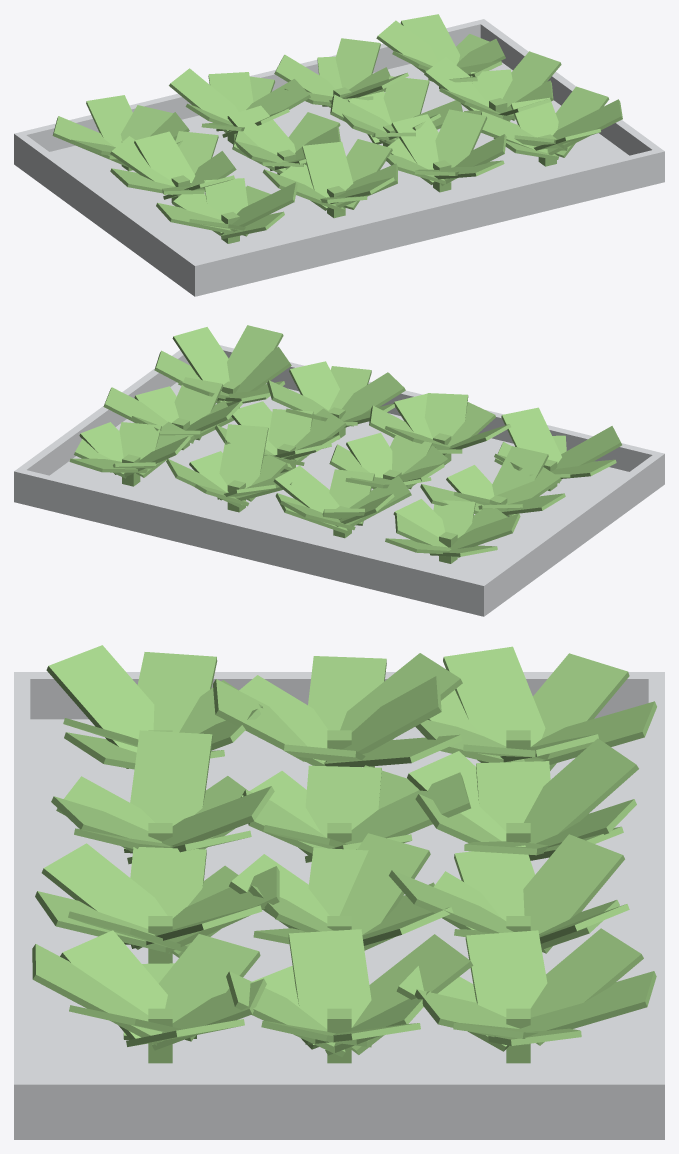
Rendered from vertical-farm-and-hydroponics-tower-vertical-farm-and--a05abe0f__38351.glb.
3 renders of one model, top to bottom at view 1: azimuth 30°, elevation 25°; view 2: azimuth 150°, elevation 25°; view 3: azimuth 270°, elevation 25°, orthographic. The views are drawn at different scales.
Parts seen in each view (by area): view 1: vertical-farm-and-hydroponics-tower-grow-tray-ready; view 2: vertical-farm-and-hydroponics-tower-grow-tray-ready; view 3: vertical-farm-and-hydroponics-tower-grow-tray-ready.
Boxes of the visible parts, x1,y1,x2,y2 form: vertical-farm-and-hydroponics-tower-grow-tray-ready: (14, 14, 664, 296); vertical-farm-and-hydroponics-tower-grow-tray-ready: (14, 325, 664, 616); vertical-farm-and-hydroponics-tower-grow-tray-ready: (14, 645, 664, 1139).
Size of the model in its own units: 1.2 by 0.1546 by 0.8.
